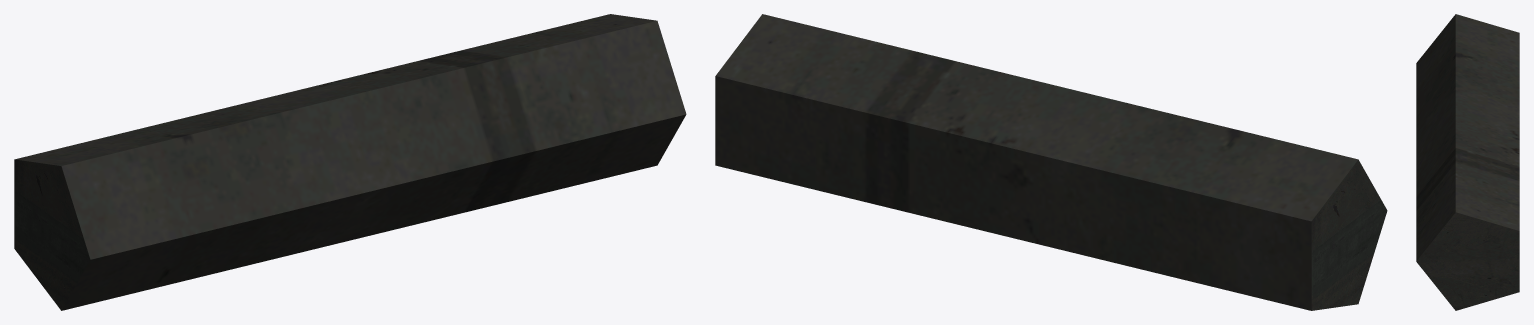
File: com_pipe_8x64_single_metal_lod3.glb
3 renders of one model, left to right at view 1: azimuth 30°, elevation 25°; view 2: azimuth 150°, elevation 25°; view 3: azimuth 270°, elevation 25°, orthographic. The views are drawn at different scales.
Visible parts, largest first — view 1: surf0; view 2: surf0; view 3: surf0.
Part boxes in pixels (<box>): surf0: <box>14,14,686,310</box>; surf0: <box>715,14,1387,310</box>; surf0: <box>1416,14,1519,310</box>.
Bounding box in the file's own units: 69.17 × 16.06 × 15.28.
